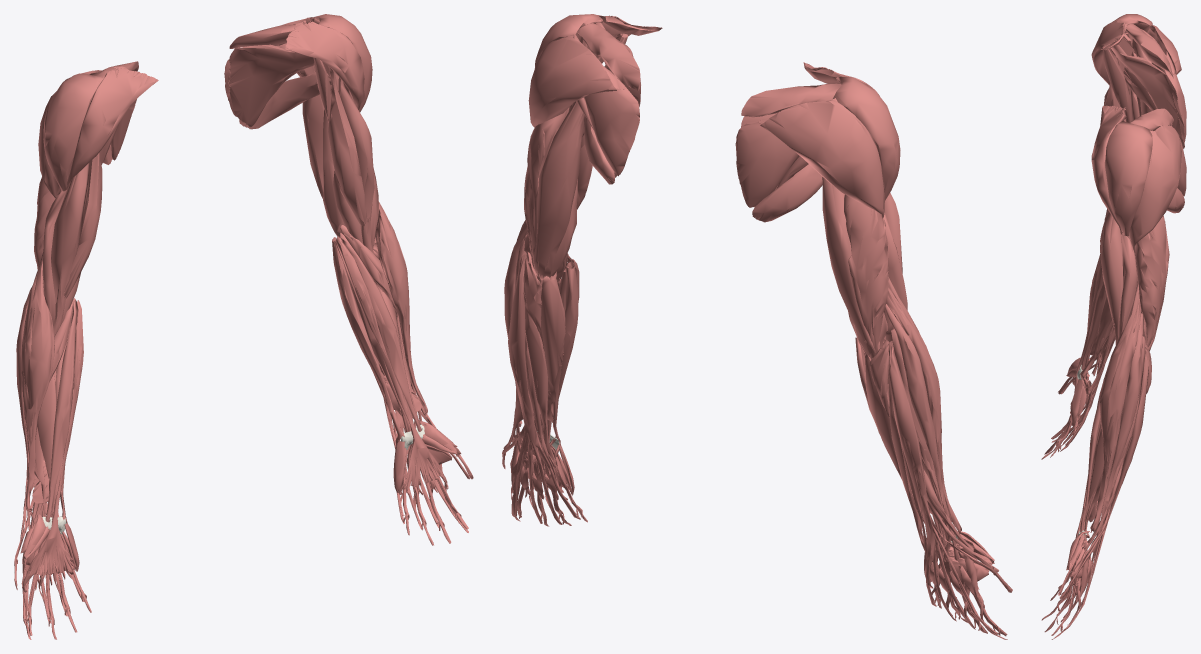
The model's file is muscles-membre-sup.lo.glb.
3 views of the same model, side by side, from view 1: azimuth 30°, elevation 25°; view 2: azimuth 150°, elevation 25°; view 3: azimuth 270°, elevation 25° (orthographic). The views are drawn at different scales.
Parts seen in each view (by area): view 1: FJ1487, FJ1504M, FJ1468, FJ1467, FJ1478, FJ1468M, FJ1502M, FJ1512M, FJ1487M, FJ1502, FJ1496, FJ1496M (+19 smaller); view 2: FJ1513, FJ1479M, FJ1513M, FJ1477, FJ1492, FJ1492M, FJ1500, FJ1500M, FJ1467, FJ1479, FJ1490, FJ1487 (+23 smaller); view 3: FJ1467M, FJ1487M, FJ1513M, FJ1477M, FJ1478M, FJ1490M, FJ1504, FJ1468M, FJ1492M, FJ1486M, FJ1468, FJ1488 (+26 smaller).
Part boxes in pixels (x1,y1,x2,y2): FJ1487: (21, 252, 55, 513); FJ1504M: (228, 44, 314, 127); FJ1468: (66, 66, 158, 189); FJ1467: (43, 73, 104, 191); FJ1478: (51, 163, 89, 336); FJ1468M: (285, 20, 364, 109); FJ1502M: (336, 236, 443, 490); FJ1512M: (327, 65, 367, 225); FJ1487M: (375, 201, 427, 416); FJ1502: (28, 300, 83, 575); FJ1496: (45, 298, 77, 522); FJ1496M: (340, 233, 421, 431); FJ1513: (758, 98, 884, 218); FJ1479M: (533, 101, 584, 277); FJ1513M: (528, 34, 625, 127); FJ1477: (844, 194, 888, 358); FJ1492: (888, 341, 998, 634); FJ1492M: (508, 251, 580, 524); FJ1500: (735, 122, 799, 207); FJ1500M: (574, 35, 639, 175); FJ1467: (833, 77, 900, 200); FJ1479: (822, 177, 875, 357); FJ1490: (885, 304, 960, 560); FJ1487: (886, 277, 961, 534); FJ1467M: (1105, 120, 1152, 236); FJ1487M: (1090, 281, 1141, 532); FJ1513M: (1129, 125, 1181, 248); FJ1477M: (1134, 216, 1168, 351); FJ1478M: (1101, 210, 1123, 344); FJ1490M: (1091, 313, 1143, 552); FJ1504: (1110, 44, 1181, 140); FJ1468M: (1091, 105, 1126, 232); FJ1492M: (1060, 349, 1148, 630); FJ1486M: (1119, 231, 1137, 337); FJ1468: (1091, 22, 1126, 85); FJ1488: (1103, 49, 1132, 122).
Size of the model in its own units: 0.6388 by 0.6898 by 0.1903.
